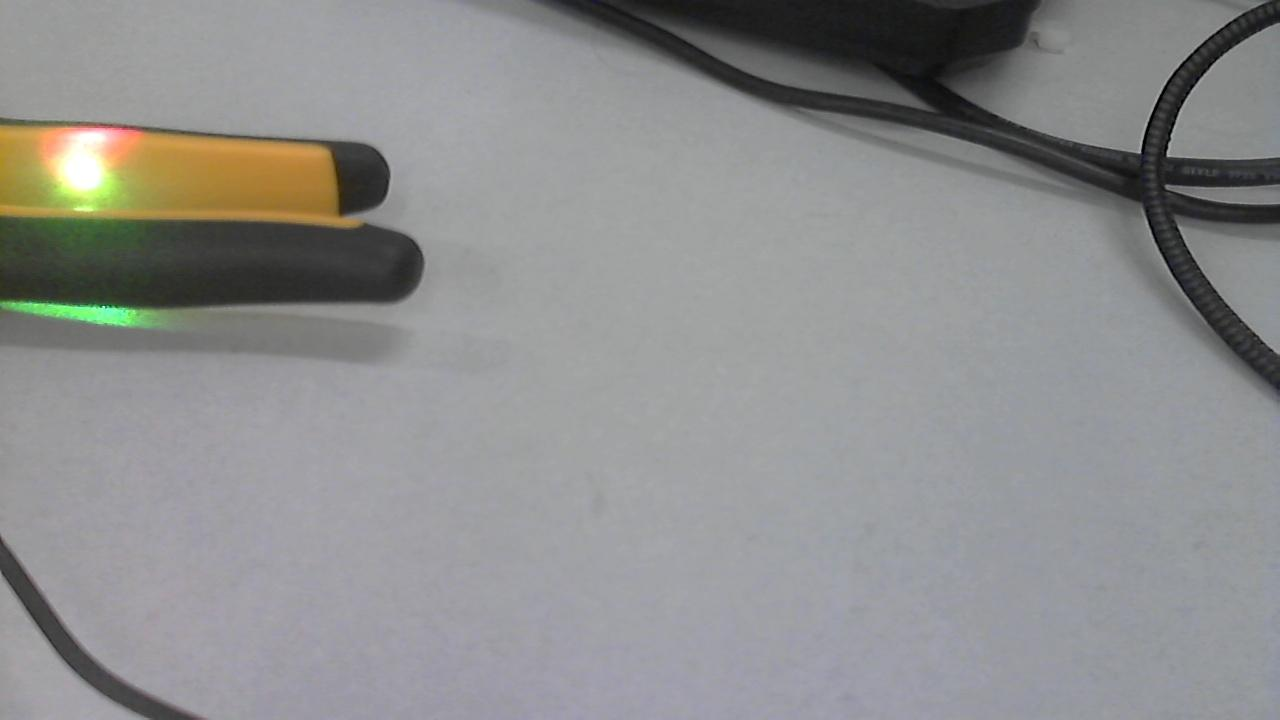Object slip joint pliers - Material plastic - Color yellow - Pdfname favaeaevcsr: (29, 115, 155, 205)
